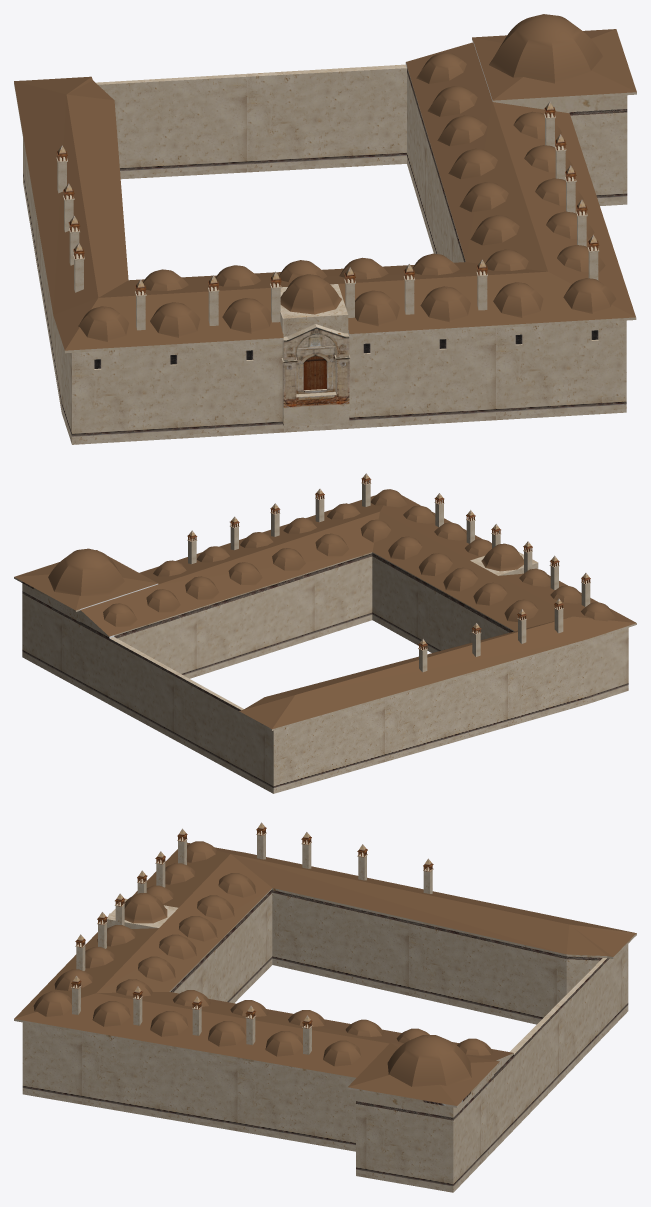
Rendered from mentreses.fbx.
3 renders of one model, top to bottom at view 1: azimuth 30°, elevation 25°; view 2: azimuth 150°, elevation 25°; view 3: azimuth 270°, elevation 25°, orthographic. The views are drawn at different scales.
Visible parts, largest first — view 1: Group1; view 2: Group1; view 3: Group1.
Part boxes in pixels (left/top/right/bottom): Group1: left=14, top=14, right=636, bottom=444; Group1: left=14, top=473, right=636, bottom=793; Group1: left=14, top=822, right=636, bottom=1192.
Size of the model in its own units: 37697 by 7956 by 35790.
